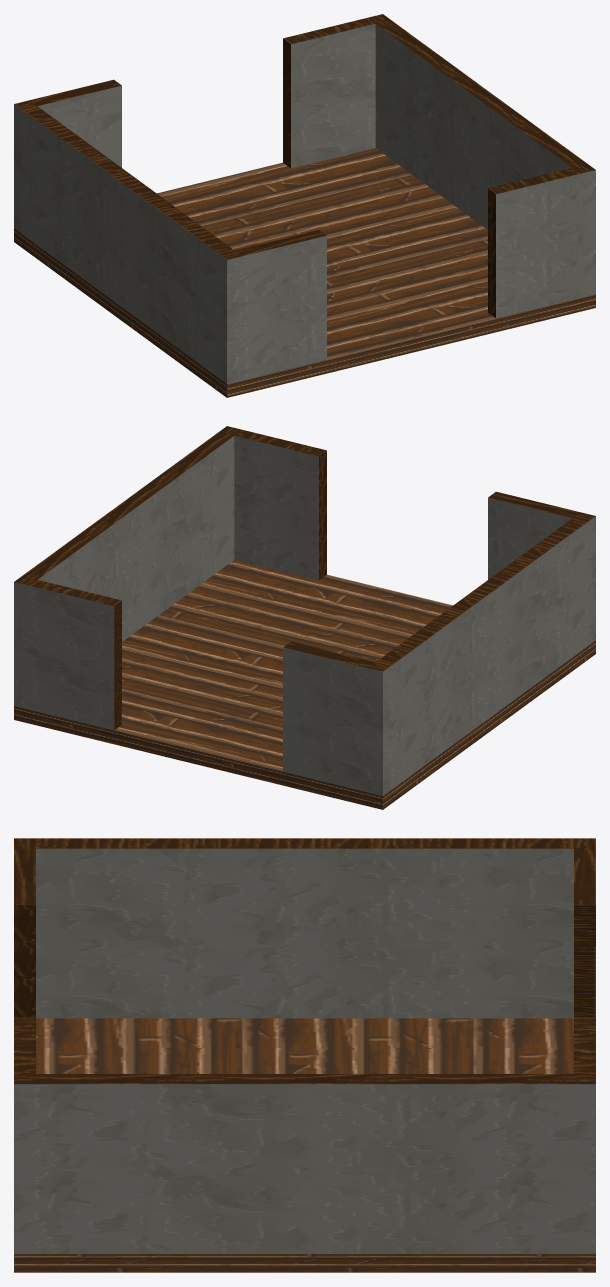
File: room-04.fbx
3 renders of one model, top to bottom at view 1: azimuth 30°, elevation 25°; view 2: azimuth 150°, elevation 25°; view 3: azimuth 270°, elevation 25°, orthographic. The views are drawn at different scales.
Visible parts, largest first — view 1: 04; view 2: 04; view 3: 04.
Boxes of the visible parts, x1,y1,x2,y2 form: 04: [14, 14, 595, 397]; 04: [14, 426, 595, 809]; 04: [14, 838, 595, 1272].
Size of the model in its own units: 600 by 214 by 600.
1 material, 1 textured.
